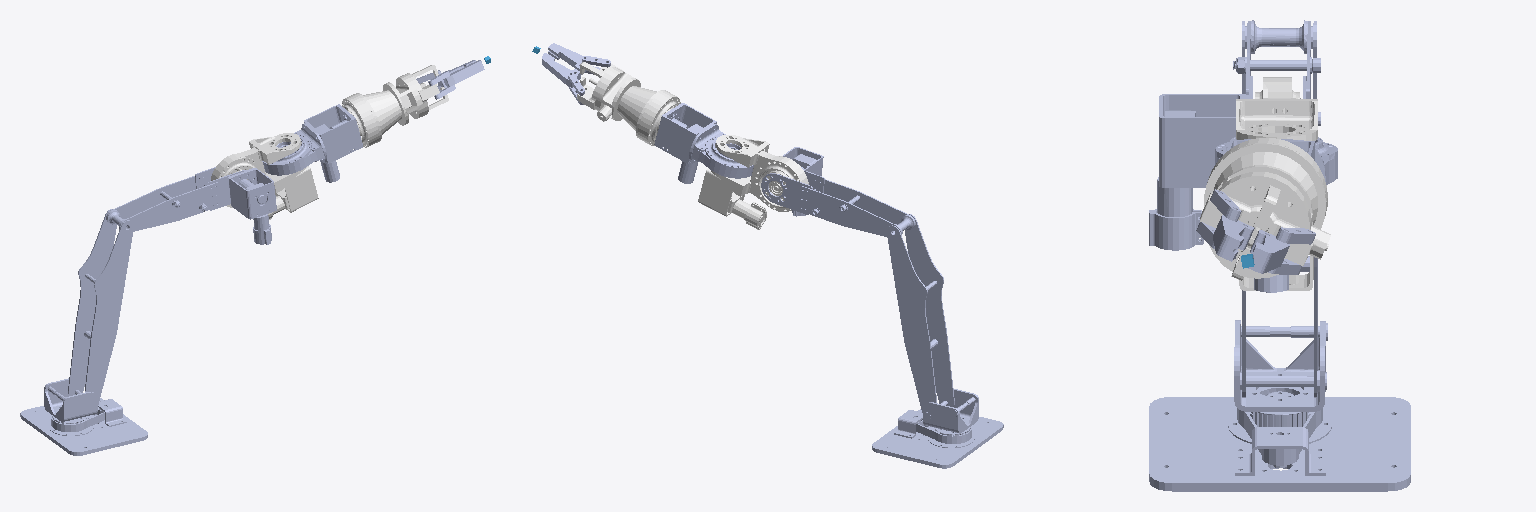
robot.urdf — arm_21_gazebo:
<?xml version="1.0" encoding="utf-8"?>
<!-- This URDF was automatically created by SolidWorks to URDF Exporter! Originally created by [author] ([email redacted]) 
     Commit Version: 1.6.0-1-g15f4949  Build Version: 1.6.7594.29634
     For more information, please see http://wiki.ros.org/sw_urdf_exporter
     calisiyo gibimsi-->


<robot
  name="arm_21_gazebo">

  <link
    name="base_link">
    <inertial>
      <origin
        xyz="0.0283516529426537 -3.13472928899217E-06 0.00833413672250298"
        rpy="0 0 0" />
      <mass
        value="0.411618821021088" />
      <inertia
        ixx="0.00149001744857891"
        ixy="6.69726144960896E-08"
        ixz="9.00572683008283E-06"
        iyy="0.0010631031887322"
        iyz="1.77926936295964E-08"
        izz="0.00248955345927809" />
    </inertial>
    <visual>
      <origin
        xyz="0 0 0"
        rpy="0 0 0" />
      <geometry>
        <mesh
          filename="package://arm_21_gazebo/meshes/base_link.STL" />
      </geometry>
      <material
        name="">
        <color
          rgba="0.792156862745098 0.819607843137255 0.933333333333333 1" />
      </material>
    </visual>
    <collision>
      <origin
        xyz="0 0 0"
        rpy="0 0 0" />
      <geometry>
        <mesh
          filename="package://arm_21_gazebo/meshes/base_link.STL" />
      </geometry>
    </collision>
  </link>
  <link
    name="link_1">
    <inertial>
      <origin
        xyz="-0.000356503517524059 0.000664993175980667 0.0321124947805349"
        rpy="0 0 0" />
      <mass
        value="0.0770611517678769" />
      <inertia
        ixx="7.31556605560956E-05"
        ixy="2.16490131798925E-07"
        ixz="3.64236356424029E-07"
        iyy="9.76213364699092E-05"
        iyz="2.78454870972715E-06"
        izz="0.000127532537279346" />
    </inertial>
    <visual>
      <origin
        xyz="0 0 0"
        rpy="0 0 0" />
      <geometry>
        <mesh
          filename="package://arm_21_gazebo/meshes/link_1.STL" />
      </geometry>
      <material
        name="">
        <color
          rgba="0.792156862745098 0.819607843137255 0.933333333333333 1" />
      </material>
    </visual>
    <collision>
      <origin
        xyz="0 0 0"
        rpy="0 0 0" />
      <geometry>
        <mesh
          filename="package://arm_21_gazebo/meshes/link_1.STL" />
      </geometry>
    </collision>
  </link>
  <joint
    name="joint_1"
    type="revolute">
    <origin
      xyz="-0.00330000000000025 0 0.0296499999999999"
      rpy="0 0 -1.5707963267949" />
    <parent
      link="base_link" />
    <child
      link="link_1" />
    <axis
      xyz="0 0 1" />
    <limit
      lower="-3.14"
      upper="3.14"
      effort="200"
      velocity="20" />
  </joint>
  <link
    name="link_2">
    <inertial>
      <origin
        xyz="-0.185712831459787 0.0341062287654583 0.0415709410869924"
        rpy="0 0 0" />
      <mass
        value="0.133412478322977" />
      <inertia
        ixx="0.000210283128741102"
        ixy="0.000267898808044728"
        ixz="8.24547542174741E-07"
        iyy="0.00147470172857633"
        iyz="-1.49191228019289E-07"
        izz="0.00143759997979806" />
    </inertial>
    <visual>
      <origin
        xyz="0 0 0"
        rpy="0 0 0" />
      <geometry>
        <mesh
          filename="package://arm_21_gazebo/meshes/link_2.STL" />
      </geometry>
      <material
        name="">
        <color
          rgba="0.792156862745098 0.819607843137255 0.933333333333333 1" />
      </material>
    </visual>
    <collision>
      <origin
        xyz="0 0 0"
        rpy="0 0 0" />
      <geometry>
        <mesh
          filename="package://arm_21_gazebo/meshes/link_2.STL" />
      </geometry>
    </collision>
  </link>
  <joint
    name="joint_2"
    type="revolute">
    <origin
      xyz="-0.0414187068453685 0.033549805342465 0.0353500000000006"
      rpy="0.00601803130954099 1.5707963267949 0" />
    <parent
      link="link_1" />
    <child
      link="link_2" />
    <axis
      xyz="0 0 1" />
    <limit
      lower="-3.14"
      upper="3.14"
      effort="200"
      velocity="20" />
  </joint>
  <link
    name="link_3">
    <inertial>
      <origin
        xyz="-0.00927048357489174 0.224396086421288 0.0798076273479603"
        rpy="0 0 0" />
      <mass
        value="0.321239553591392" />
      <inertia
        ixx="0.000653318723180021"
        ixy="1.86012255814898E-05"
        ixz="-6.36880707796283E-05"
        iyy="0.000432403266409972"
        iyz="-6.89676089884139E-06"
        izz="0.000729719045023718" />
    </inertial>
    <visual>
      <origin
        xyz="0 0 0"
        rpy="0 0 0" />
      <geometry>
        <mesh
          filename="package://arm_21_gazebo/meshes/link_3.STL" />
      </geometry>
      <material
        name="">
        <color
          rgba="0.792156862745098 0.819607843137255 0.933333333333333 1" />
      </material>
    </visual>
    <collision>
      <origin
        xyz="0 0 0"
        rpy="0 0 0" />
      <geometry>
        <mesh
          filename="package://arm_21_gazebo/meshes/link_3.STL" />
      </geometry>
    </collision>
  </link>
  <joint
    name="joint_3"
    type="revolute">
    <origin
      xyz="-0.371503071185761 0.0814778373537312 0.00860000000000685"
      rpy="0 0 0" />
    <parent
      link="link_2" />
    <child
      link="link_3" />
    <axis
      xyz="0 0 -1" />
    <limit
      lower="-3.14"
      upper="3.14"
      effort="200"
      velocity="20" />
  </joint>
  <link
    name="link_4">
    <inertial>
      <origin
        xyz="0.0153994713090658 0.0687193463797059 0.0243117929270948"
        rpy="0 0 0" />
      <mass
        value="0.499523863702407" />
      <inertia
        ixx="0.00173055801721154"
        ixy="-0.000361419005495416"
        ixz="-6.11717117688946E-06"
        iyy="0.00101306670353097"
        iyz="-2.01580605449022E-05"
        izz="0.00248653323750693" />
    </inertial>
    <visual>
      <origin
        xyz="0 0 0"
        rpy="0 0 0" />
      <geometry>
        <mesh
          filename="package://arm_21_gazebo/meshes/link_4.STL" />
      </geometry>
      <material
        name="">
        <color
          rgba="0.956862745098039 0.956862745098039 0.96078431372549 1" />
      </material>
    </visual>
    <collision>
      <origin
        xyz="0 0 0"
        rpy="0 0 0" />
      <geometry>
        <mesh
          filename="package://arm_21_gazebo/meshes/link_4.STL" />
      </geometry>
    </collision>
  </link>
  <joint
    name="joint_4"
    type="revolute">
    <origin
      xyz="-0.0279961959402176 0.270555378828206 0.00800000000001458"
      rpy="0 0 0" />
    <parent
      link="link_3" />
    <child
      link="link_4" />
    <axis
      xyz="0 0 -1" />
    <limit
      lower="-3.14"
      upper="3.14"
      effort="200"
      velocity="20" />
  </joint>
  <link
    name="link_5">
    <inertial>
      <origin
        xyz="0.00348805214384733 0.0631847969677701 -0.0362452257334619"
        rpy="0 0 0" />
      <mass
        value="0.403763446487952" />
      <inertia
        ixx="0.00111272731474711"
        ixy="-3.44604690973373E-05"
        ixz="3.20129398499904E-06"
        iyy="0.000490209836558671"
        iyz="5.80828573622672E-05"
        izz="0.0010797067423783" />
    </inertial>
    <visual>
      <origin
        xyz="0 0 0"
        rpy="0 0 0" />
      <geometry>
        <mesh
          filename="package://arm_21_gazebo/meshes/link_5.STL" />
      </geometry>
      <material
        name="">
        <color
          rgba="0.792156862745098 0.819607843137255 0.933333333333333 1" />
      </material>
    </visual>
    <collision>
      <origin
        xyz="0 0 0"
        rpy="0 0 0" />
      <geometry>
        <mesh
          filename="package://arm_21_gazebo/meshes/link_5.STL" />
      </geometry>
    </collision>
  </link>
  <joint
    name="joint_5"
    type="revolute">
    <origin
      xyz="-0.0551018038948891 0.108631446678808 0.0250000000000003"
      rpy="-1.57079632679488 -1.56457830664452 1.8251090631911" />
    <parent
      link="link_4" />
    <child
      link="link_5" />
    <axis
      xyz="0 0 -1" />
    <limit
      lower="-3.14"
      upper="3.14"
      effort="200"
      velocity="20" />
  </joint>
  <link
    name="link_6">
    <inertial>
      <origin
        xyz="-0.00132774301112165 0.000889600621098885 0.0704049647825484"
        rpy="0 0 0" />
      <mass
        value="0.559735468471101" />
      <inertia
        ixx="0.000945557905226613"
        ixy="3.24926973843139E-05"
        ixz="-2.09155403595635E-06"
        iyy="0.000970019451241293"
        iyz="1.4404192920651E-06"
        izz="0.000707313841265861" />
    </inertial>
    <visual>
      <origin
        xyz="0 0 0"
        rpy="0 0 0" />
      <geometry>
        <mesh
          filename="package://arm_21_gazebo/meshes/link_6.STL" />
      </geometry>
      <material
        name="">
        <color
          rgba="0.956862745098039 0.956862745098039 0.96078431372549 1" />
      </material>
    </visual>
    <collision>
      <origin
        xyz="0 0 0"
        rpy="0 0 0" />
      <geometry>
        <mesh
          filename="package://arm_21_gazebo/meshes/link_6.STL" />
      </geometry>
    </collision>
  </link>
  <joint
    name="joint_6"
    type="revolute">
    <origin
      xyz="0.00949310528755105 0.17173782621193 -0.0277500000000037"
      rpy="-1.5707963267949 0.209223763052682 -0.0552205323847502" />
    <parent
      link="link_5" />
    <child
      link="link_6" />
    <axis
      xyz="-1.54034759807173E-05 -7.25446098992222E-05 -0.999999997250006" />
    <limit
      lower="-3.14"
      upper="3.14"
      effort="200"
      velocity="20" />
  </joint>
  <link
    name="link_left">
    <inertial>
      <origin
        xyz="0.0314626069369911 0.0531233814981685 -0.0199960979518445"
        rpy="0 0 0" />
      <mass
        value="0.0446629627771707" />
      <inertia
        ixx="4.47578123128779E-05"
        ixy="-1.60001664005595E-05"
        ixz="-1.12971039752555E-09"
        iyy="1.28447195858457E-05"
        iyz="-2.65906686148158E-09"
        izz="4.98882502847697E-05" />
    </inertial>
    <visual>
      <origin
        xyz="0 0 0"
        rpy="0 0 0" />
      <geometry>
        <mesh
          filename="package://arm_21_gazebo/meshes/link_left.STL" />
      </geometry>
      <material
        name="">
        <color
          rgba="0.792156862745098 0.819607843137255 0.933333333333333 1" />
      </material>
    </visual>
    <collision>
      <origin
        xyz="0 0 0"
        rpy="0 0 0" />
      <geometry>
        <mesh
          filename="package://arm_21_gazebo/meshes/link_left.STL" />
      </geometry>
    </collision>
  </link>
  <joint
    name="joint_left"
    type="revolute">
    <origin
      xyz="-0.0466606487030675 0.00847253578389656 0.155100000968576"
      rpy="1.57072738782729 -0.152352011766928 -0.614963569401514" />
    <parent
      link="link_6" />
    <child
      link="link_left" />
    <axis
      xyz="0 0 -1" />
    <limit
      lower="-3.14"
      upper="3.14"
      effort="200"
      velocity="20" />
  </joint>
  <link
    name="link_right">
    <inertial>
      <origin
        xyz="-0.0146336182821504 0.0599807688252963 -0.0200000004555555"
        rpy="0 0 0" />
      <mass
        value="0.0446629877025381" />
      <inertia
        ixx="5.09657805520496E-05"
        ixy="4.39912658034021E-06"
        ixz="7.1975394292875E-13"
        iyy="6.63677993423499E-06"
        iyz="7.10563387693904E-13"
        izz="4.98882792100199E-05" />
    </inertial>
    <visual>
      <origin
        xyz="0 0 0"
        rpy="0 0 0" />
      <geometry>
        <mesh
          filename="package://arm_21_gazebo/meshes/link_right.STL" />
      </geometry>
      <material
        name="">
        <color
          rgba="0.792156862745098 0.819607843137255 0.933333333333333 1" />
      </material>
    </visual>
    <collision>
      <origin
        xyz="0 0 0"
        rpy="0 0 0" />
      <geometry>
        <mesh
          filename="package://arm_21_gazebo/meshes/link_right.STL" />
      </geometry>
    </collision>
  </link>
  <joint
    name="joint_right"
    type="revolute">
    <origin
      xyz="0.0235831562571663 -0.0411440729747394 0.155100000968564"
      rpy="1.5707963267949 -0.0596997318341724 -0.614974030810858" />
    <parent
      link="link_6" />
    <child
      link="link_right" />
    <axis
      xyz="0 -6.80191053468171E-05 -0.99999999767844" />
    <limit
      lower="-3.14"
      upper="3.14"
      effort="200"
      velocity="20" />
  </joint>

 <!-- end effector joint -->
  <joint name="end_effector_joint" type="fixed">
    <origin xyz="0 0 0.295100000968564" rpy="0 0 0"/>
    <parent link="link_6"/>
    <child link="end_effector_link"/>
  </joint>

  <!-- end effector link -->
  <link name="end_effector_link">
    <visual>
      <origin xyz="0 0 0" rpy="0 0 0"/>
      <geometry>
        <box size="0.01 0.01 0.01" />
      </geometry>
      <material name="red"/>
     </visual>

    <inertial>
      <origin xyz="0 0 0" />
      <mass value="1.0e-03" />
      <inertia ixx="1.0e-03" ixy="0.0" ixz="0.0"
               iyy="1.0e-03" iyz="0.0"
               izz="1.0e-03" />
    </inertial>
  </link>

<!--
<xacro:include filename="$(find realsense2_description)/urdf/_d435.urdf.xacro" />
<sensor_d435 parent="${prefix}link_6">

</sensor_d435>
-->

  <gazebo>
 <plugin name="gazebo_ros_control" filename="libgazebo_ros_control.so">
  <robotSimType>gazebo_ros_control/DefaultRobotHWSim</robotSimType>
  <legacyModeNS>true</legacyModeNS> 
  <controlPeriod>0.001</controlPeriod>
  <robotNamespace></robotNamespace>
    </plugin>
  </gazebo>


<transmission name="tran1">
    <type>transmission_interface/SimpleTransmission</type>
    <joint name="joint_1">
      <hardwareInterface>hardware_interface/PositionJointInterface</hardwareInterface>
    </joint>
    <actuator name="motor1">
      <hardwareInterface>hardware_interface/PositionJointInterface</hardwareInterface>
      <mechanicalReduction>1</mechanicalReduction>
    </actuator>
</transmission>

<transmission name="tran2">
    <type>transmission_interface/SimpleTransmission</type>
    <joint name="joint_2">
      <hardwareInterface>hardware_interface/PositionJointInterface</hardwareInterface>
    </joint>
    <actuator name="motor2">
      <hardwareInterface>hardware_interface/PositionJointInterface</hardwareInterface>
      <mechanicalReduction>1</mechanicalReduction>
    </actuator>
</transmission>

<transmission name="tran3">
    <type>transmission_interface/SimpleTransmission</type>
    <joint name="joint_3">
      <hardwareInterface>hardware_interface/PositionJointInterface</hardwareInterface>
    </joint>
    <actuator name="motor3">
      <hardwareInterface>hardware_interface/PositionJointInterface</hardwareInterface>
      <mechanicalReduction>1</mechanicalReduction>
    </actuator>
</transmission>

<transmission name="tran4">
    <type>transmission_interface/SimpleTransmission</type>
    <joint name="joint_4">
      <hardwareInterface>hardware_interface/PositionJointInterface</hardwareInterface>
    </joint>
    <actuator name="motor4">
      <hardwareInterface>hardware_interface/PositionJointInterface</hardwareInterface>
      <mechanicalReduction>1</mechanicalReduction>
    </actuator>
</transmission>

<transmission name="tran5">
    <type>transmission_interface/SimpleTransmission</type>
    <joint name="joint_5">
      <hardwareInterface>hardware_interface/PositionJointInterface</hardwareInterface>
    </joint>
    <actuator name="motor5">
      <hardwareInterface>hardware_interface/PositionJointInterface</hardwareInterface>
      <mechanicalReduction>1</mechanicalReduction>
    </actuator>
</transmission>

<transmission name="tran6">
    <type>transmission_interface/SimpleTransmission</type>
    <joint name="joint_6">
      <hardwareInterface>hardware_interface/PositionJointInterface</hardwareInterface>
    </joint>
    <actuator name="motor6">
      <hardwareInterface>hardware_interface/PositionJointInterface</hardwareInterface>
      <mechanicalReduction>1</mechanicalReduction>
    </actuator>
</transmission>

<transmission name="tran_gripper_right">
    <type>transmission_interface/SimpleTransmission</type>
    <joint name="joint_right">
      <hardwareInterface>hardware_interface/PositionJointInterface</hardwareInterface>
    </joint>
    <actuator name="motor_gripper_right">
      <hardwareInterface>hardware_interface/PositionJointInterface</hardwareInterface>
      <mechanicalReduction>1</mechanicalReduction>
    </actuator>
</transmission>

<transmission name="tran_gripper_left">
    <type>transmission_interface/SimpleTransmission</type>
    <joint name="joint_left">
      <hardwareInterface>hardware_interface/PositionJointInterface</hardwareInterface>
    </joint>
    <actuator name="motor_gripper_left">
      <hardwareInterface>hardware_interface/PositionJointInterface</hardwareInterface>
      <mechanicalReduction>1</mechanicalReduction>
    </actuator>
</transmission>
</robot>

--- What the picture shows (computed from the rendered views, not written in the file) ---
Views: 3 orthographic renders of the robot side by side, from view 1: azimuth 30°, elevation 25°; view 2: azimuth 150°, elevation 25°; view 3: azimuth 270°, elevation 25°.
Robot: arm_21_gazebo — 10 links, 9 joints (8 revolute, 1 fixed); root link base_link; default pose: all joints at 0.
Links seen in each view (by area): view 1: link_2, link_3, base_link, link_6, link_5, link_4, link_1, link_right; view 2: link_2, link_3, link_4, link_6, base_link, link_5, link_1, link_left, link_right; view 3: base_link, link_3, link_6, link_1, link_4, link_right, link_left, link_5, link_2.
Boxes of the visible links, <box> form: link_2: <box>68,209,133,404</box>; link_3: <box>106,167,276,244</box>; base_link: <box>20,398,147,455</box>; link_6: <box>342,65,448,147</box>; link_5: <box>262,104,362,182</box>; link_4: <box>211,133,318,219</box>; link_1: <box>44,378,97,421</box>; link_right: <box>428,60,484,99</box>; link_2: <box>887,214,954,412</box>; link_3: <box>761,147,915,236</box>; link_4: <box>698,135,808,229</box>; link_6: <box>577,62,680,145</box>; base_link: <box>872,409,1003,468</box>; link_5: <box>654,103,753,183</box>; link_1: <box>923,388,978,433</box>; link_left: <box>542,53,584,104</box>; link_right: <box>548,43,610,74</box>; base_link: <box>1149,387,1410,491</box>; link_3: <box>1149,20,1320,250</box>; link_6: <box>1200,138,1330,280</box>; link_1: <box>1234,320,1327,411</box>; link_4: <box>1236,77,1317,290</box>; link_right: <box>1196,189,1254,261</box>; link_left: <box>1248,227,1315,274</box>; link_5: <box>1215,137,1337,292</box>; link_2: <box>1240,21,1319,397</box>.
Bounding box of the posed robot: 1.02 × 0.2303 × 0.6232 m (x, y, z).
9 mesh visuals loaded from 9 distinct referenced files (9 binary STL).
